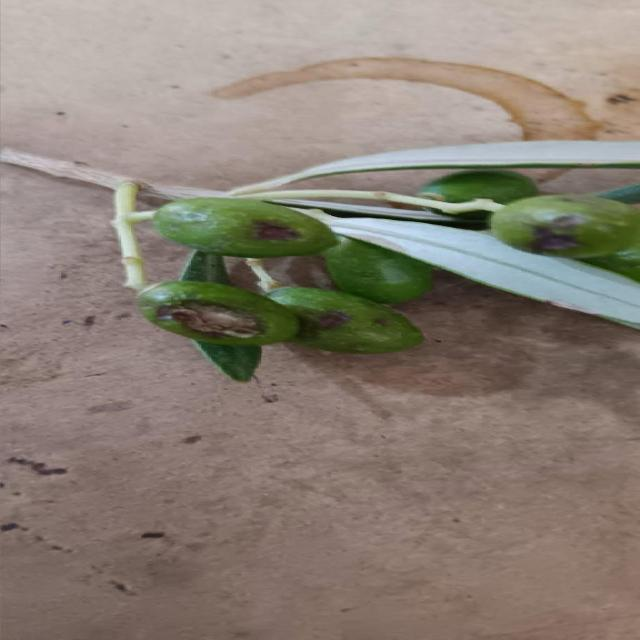Olive Fruit Fly: (152, 198, 336, 258), (139, 282, 298, 348), (267, 287, 422, 354), (489, 196, 639, 259)
